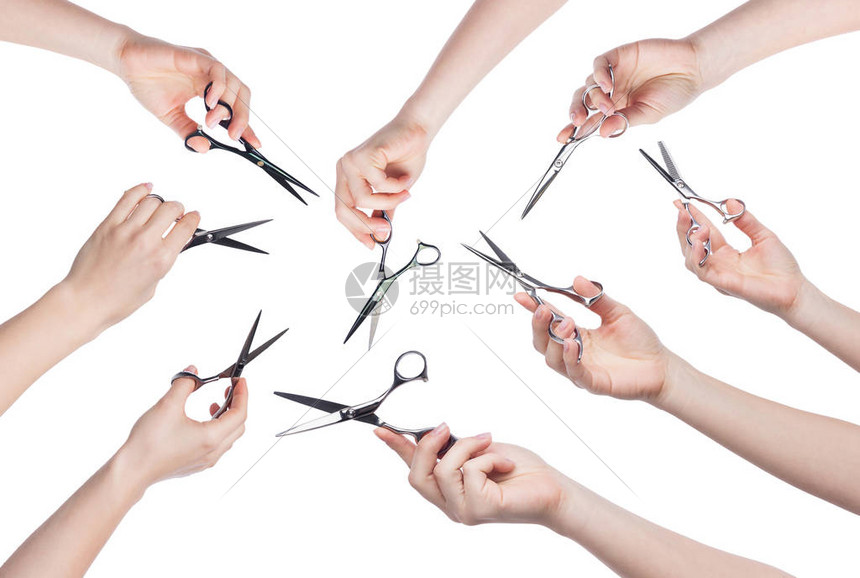scissors: (453, 209, 626, 360), (256, 349, 470, 460), (627, 133, 786, 270), (510, 77, 633, 225), (182, 85, 323, 213), (164, 304, 293, 431), (336, 202, 442, 353), (134, 195, 281, 268)
